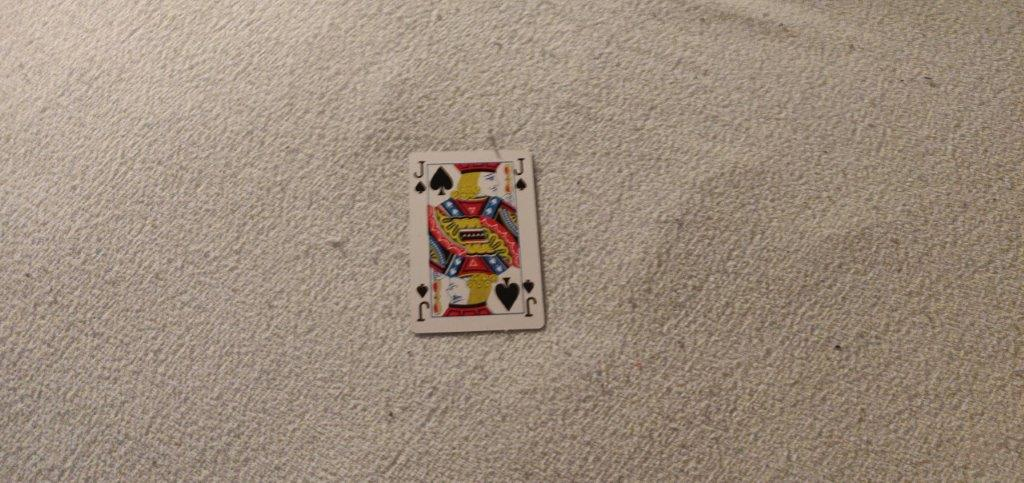JS: (510, 155, 531, 196), (412, 158, 430, 197)
